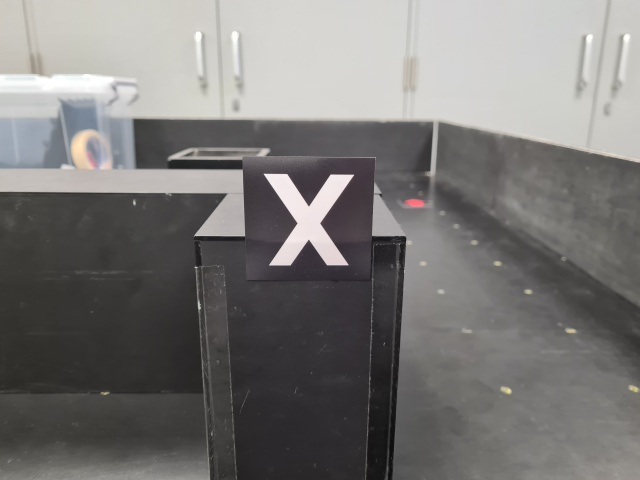alphabet_x: (241, 157, 375, 282)
